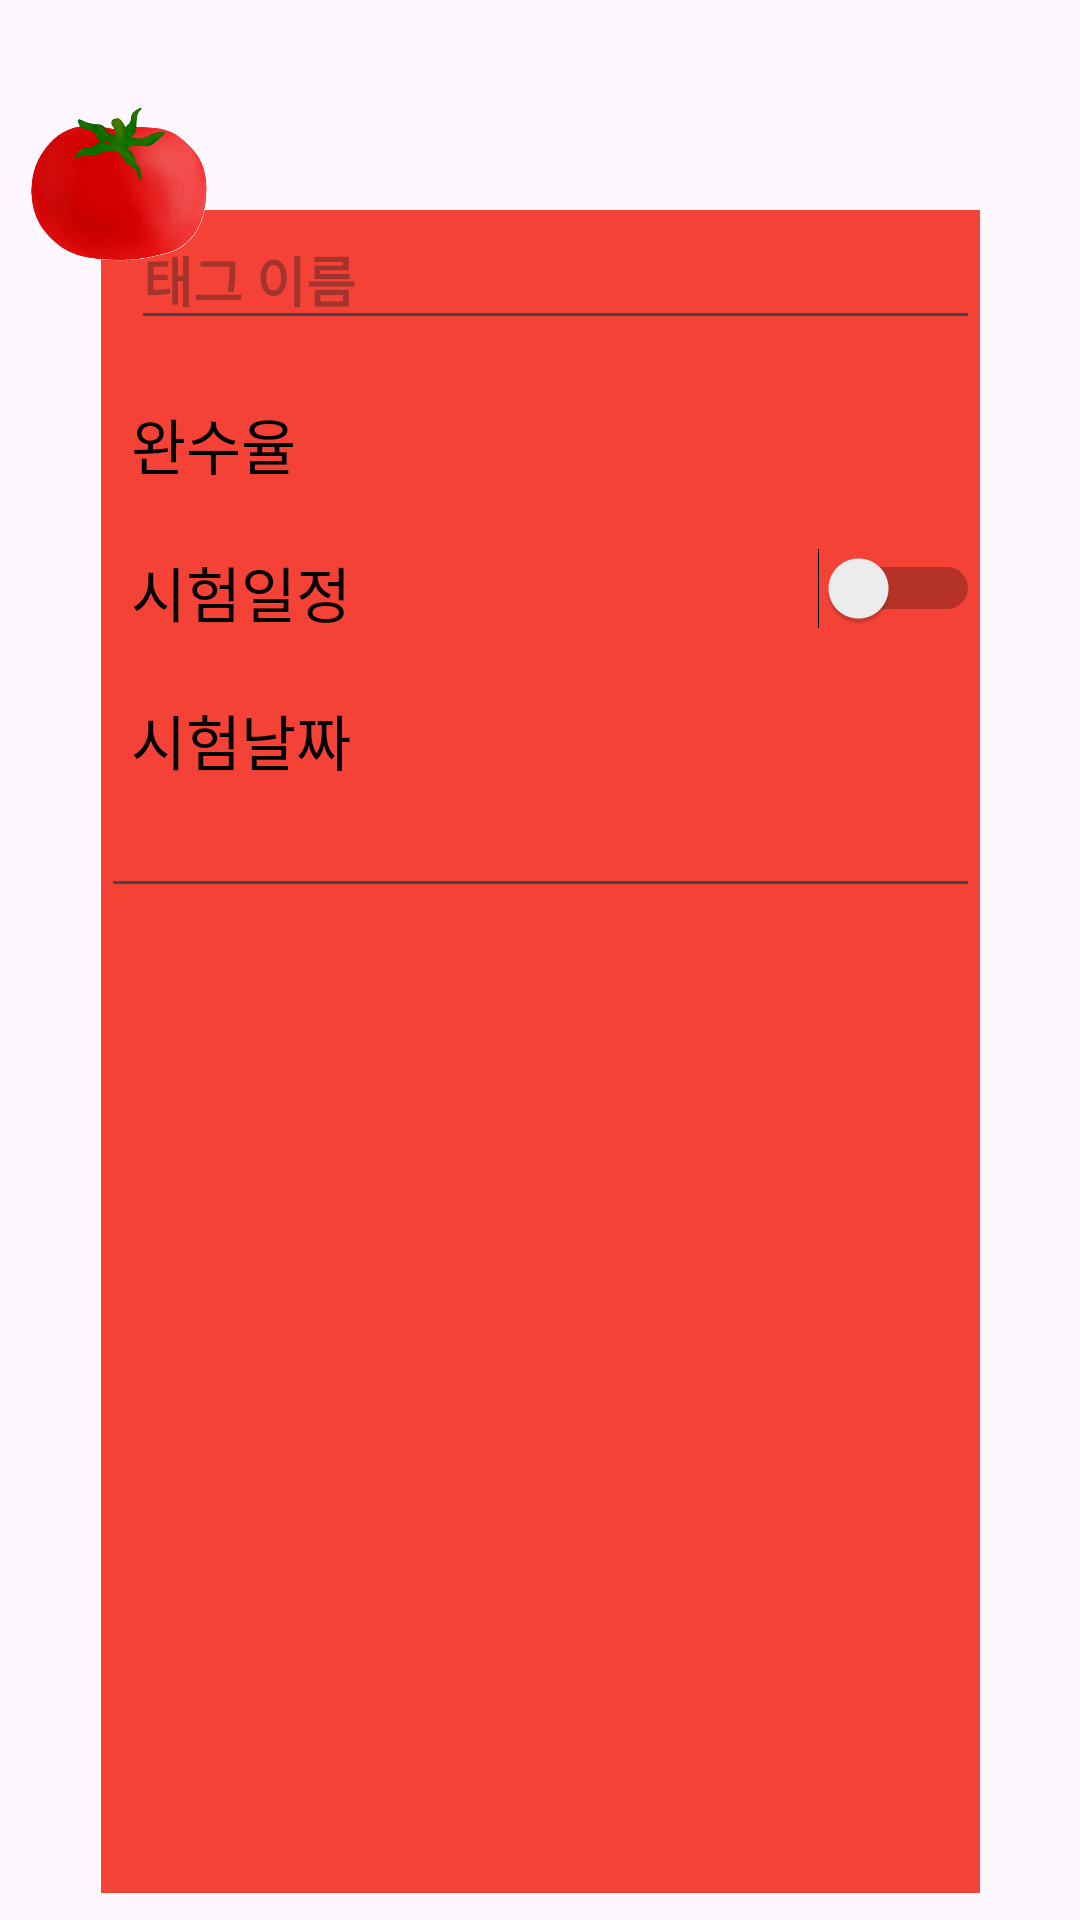

Screen size 1080 × 1920. Icon name, then its box in pixels as (x1, y1, x2, y2):
tomato: (31, 108, 222, 288)
